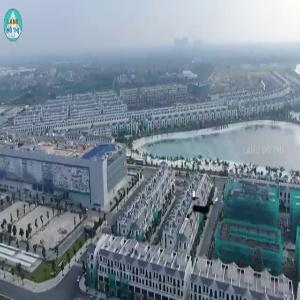drone: (181, 186, 222, 227)
